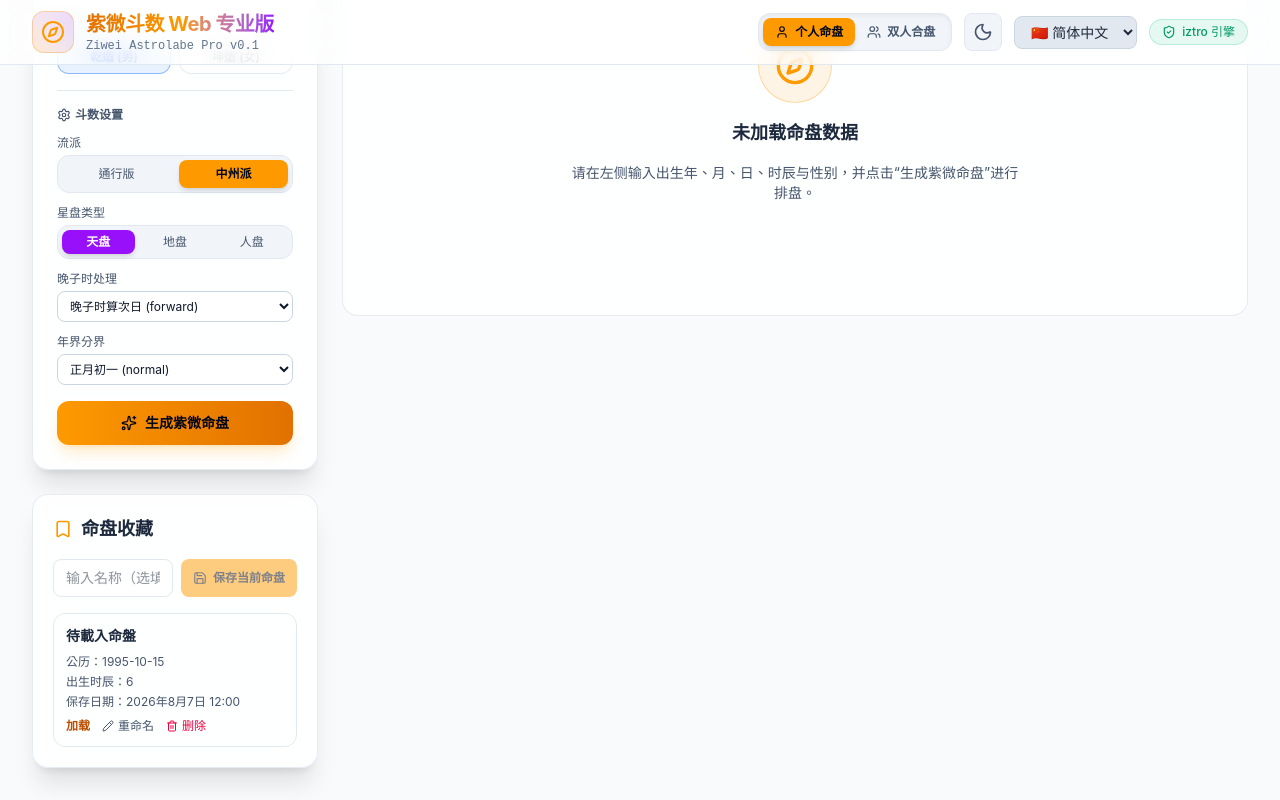
Test: App Integration Test Suite › loads a saved chart in the current locale without changing LLM settings
(page scrolled)
Expected: the heading "紫微斗数 Web 专业版" is shown, [86,10,274,38]
Expected: the text "待載入命盤" is shown, [66,627,136,644]
Click the button "加载".
click(78, 726)  # box [66,718,90,734]
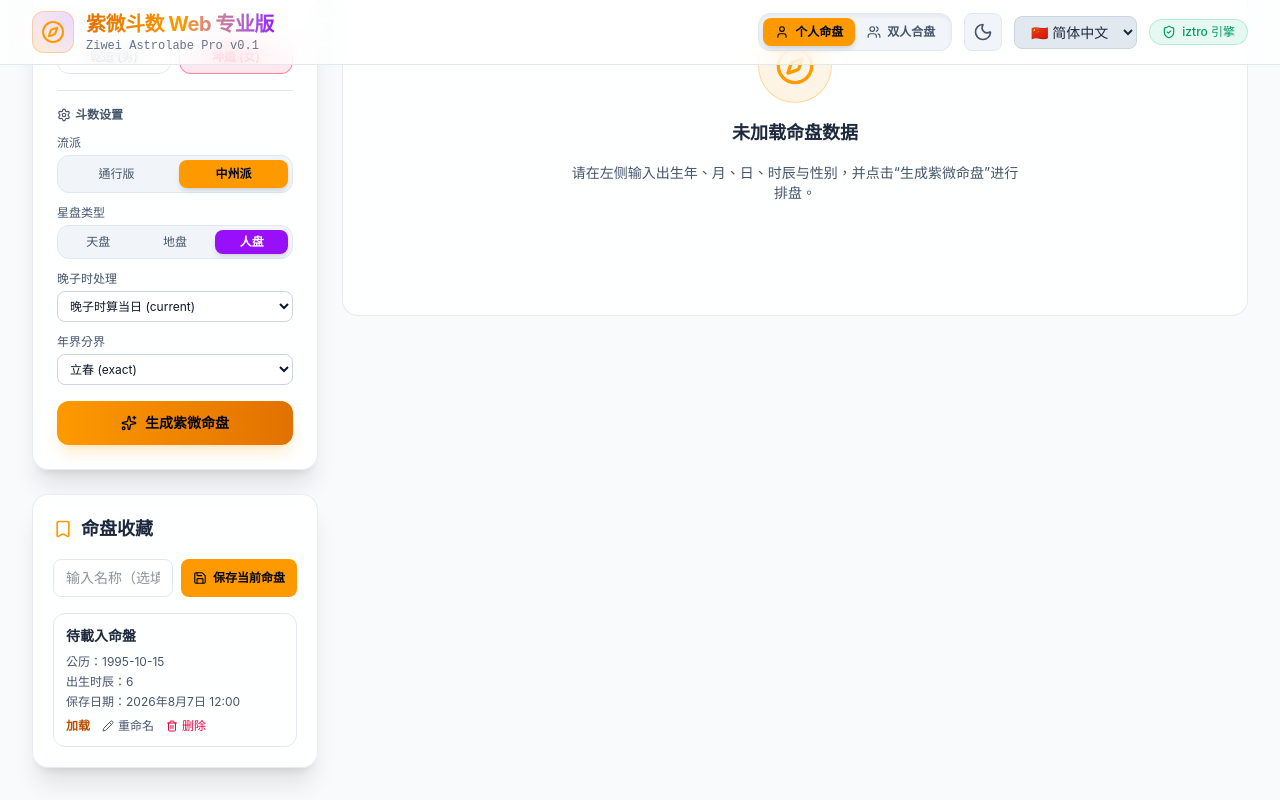
Click the button "删除".
click(186, 726)  # box [166,718,206,734]
(page scrolled)
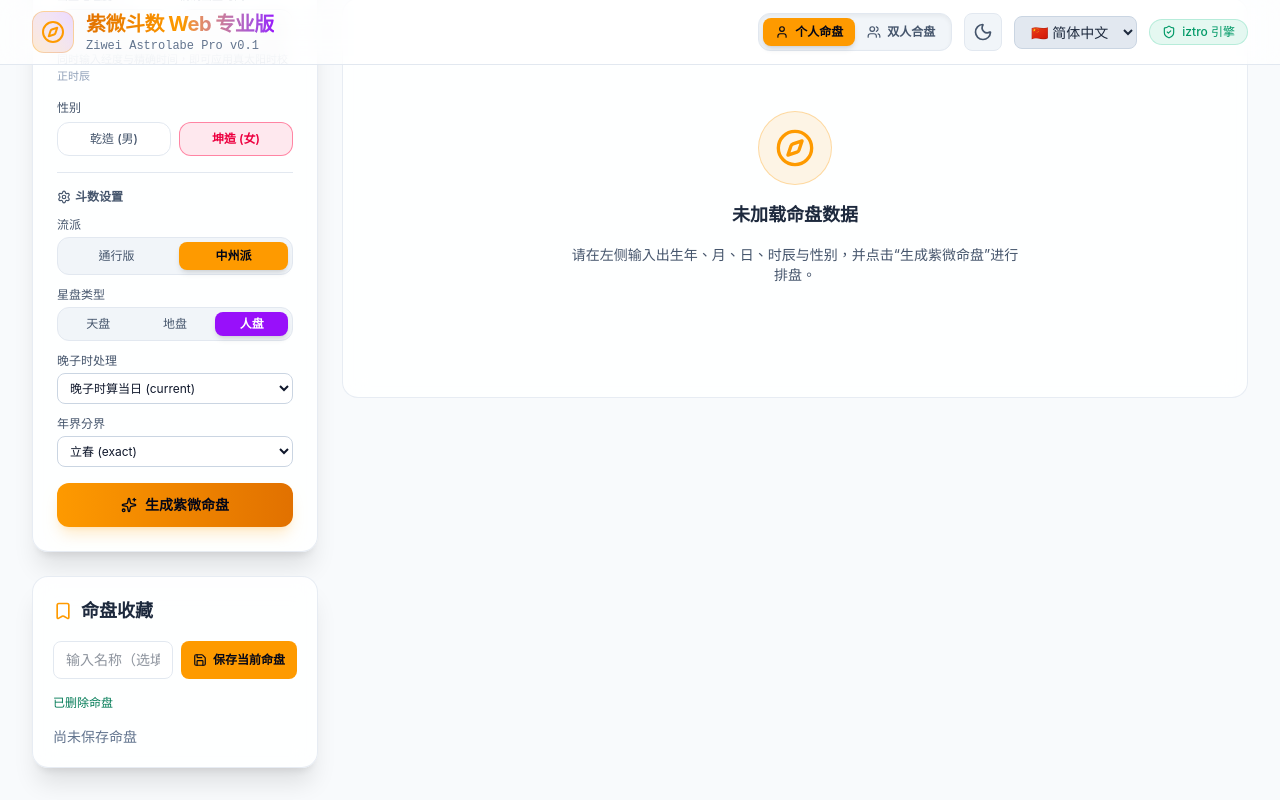
Result: the text "待載入命盤" is gone
